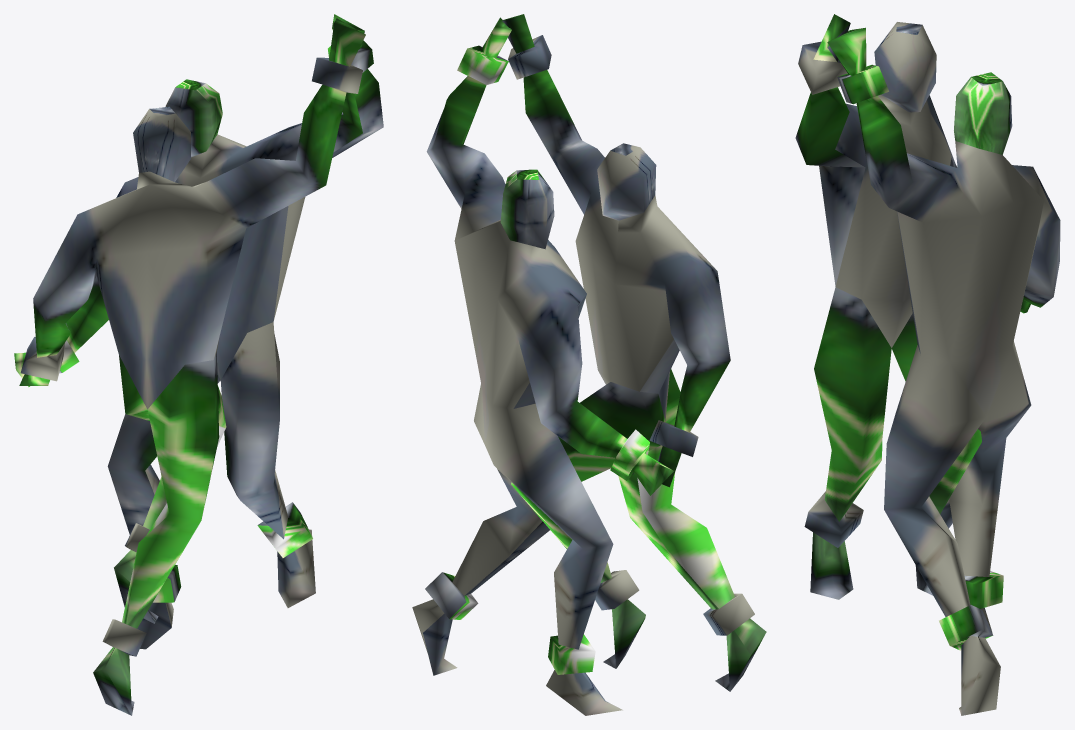
File: icon.ico.obj
The picture shows the model from 3 angles, left to right: view 1: azimuth 30°, elevation 25°; view 2: azimuth 150°, elevation 25°; view 3: azimuth 270°, elevation 25°; orthographic projection. The views are drawn at different scales.
Size of the model in its own units: 2.41 by 4.49 by 1.56.
